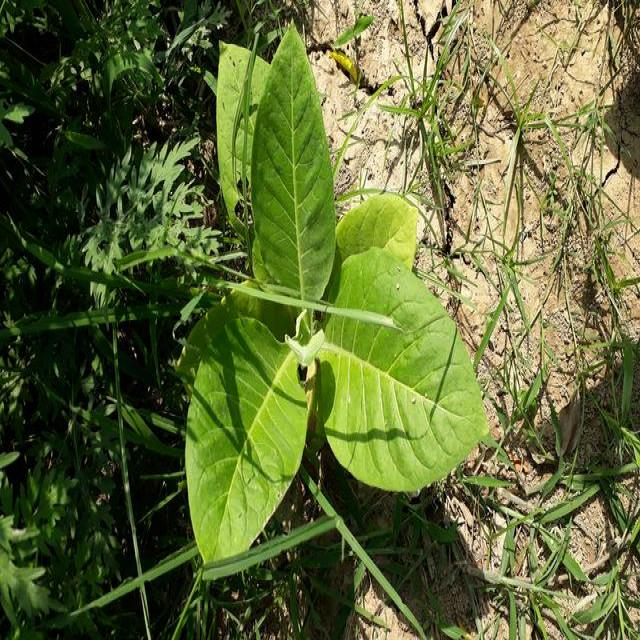crop: (190, 48, 472, 570)
